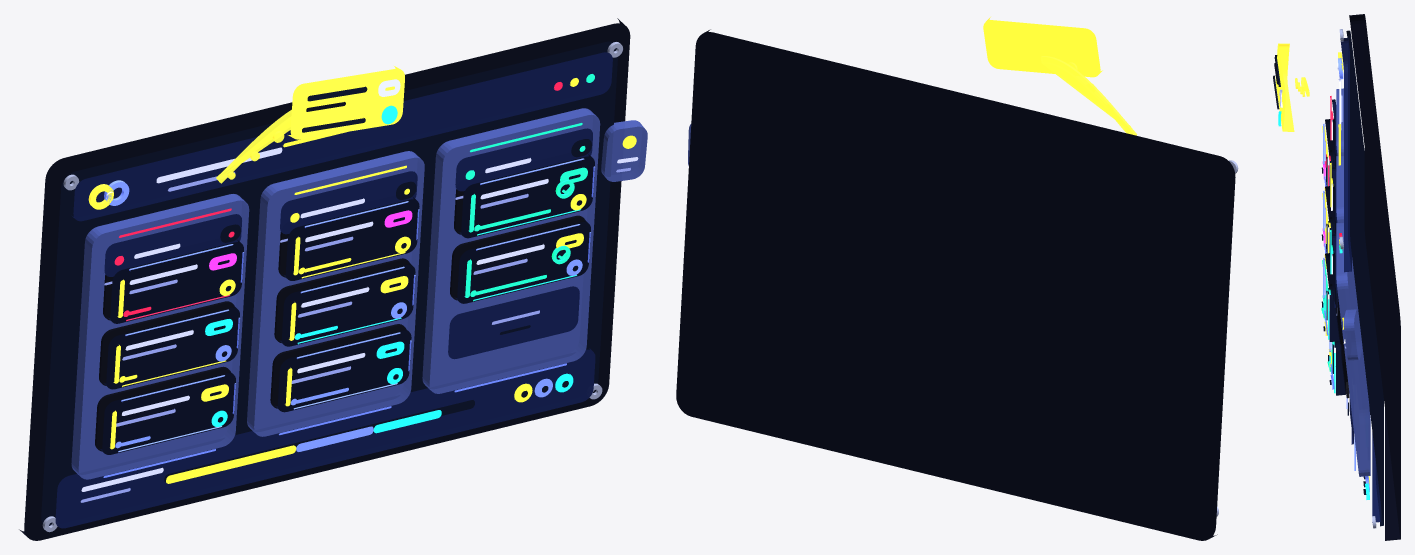
Rendered from board.glb.
The picture shows the model from 3 angles, left to right: view 1: azimuth 30°, elevation 25°; view 2: azimuth 150°, elevation 25°; view 3: azimuth 270°, elevation 25°; orthographic projection. The views are drawn at different scales.
Visible parts, largest first — view 1: BaseInset, BasePlate, FooterTray, TopRail, Panel_2, Panel_1, Panel_0, DropSlot_Done, Card_0_0, Card_0_1, Card_1_1, Card_1_0 (+17 smaller); view 2: BasePlate, FlyingCard, Trail; view 3: BasePlate, BaseInset, Panel_2, TopRail, FlyingCard, NotificationTab, Card_2_0, Panel_1, FooterTray, Card_2_1, Panel_0, Card_0_0 (+4 smaller).
Boxes of the visible parts, bbox=[...] form: BaseInset: bbox=[41, 41, 617, 525]; BasePlate: bbox=[19, 18, 630, 540]; FooterTray: bbox=[55, 348, 595, 528]; TopRail: bbox=[72, 51, 612, 221]; Panel_2: bbox=[422, 108, 600, 393]; Panel_1: bbox=[247, 151, 424, 436]; Panel_0: bbox=[71, 194, 249, 479]; DropSlot_Done: bbox=[448, 286, 579, 359]; Card_0_0: bbox=[107, 239, 243, 323]; Card_0_1: bbox=[103, 305, 239, 389]; Card_1_1: bbox=[279, 262, 415, 346]; Card_1_0: bbox=[282, 196, 419, 280]; BasePlate: bbox=[676, 29, 1235, 540]; FlyingCard: bbox=[983, 17, 1102, 77]; Trail: bbox=[1040, 56, 1137, 135]; BasePlate: bbox=[1349, 14, 1400, 540]; BaseInset: bbox=[1346, 30, 1383, 526]; Panel_2: bbox=[1336, 222, 1370, 476]; TopRail: bbox=[1340, 37, 1351, 272]; FlyingCard: bbox=[1275, 43, 1294, 131]; NotificationTab: bbox=[1343, 309, 1361, 360]; Card_2_0: bbox=[1325, 252, 1339, 341]; Panel_1: bbox=[1336, 155, 1369, 408]; FooterTray: bbox=[1372, 432, 1380, 522]; Card_2_1: bbox=[1335, 339, 1345, 395]; Panel_0: bbox=[1336, 88, 1343, 155]; Card_0_0: bbox=[1325, 118, 1335, 185].
Size of the model in its own units: 8.2 by 6 by 1.93.
